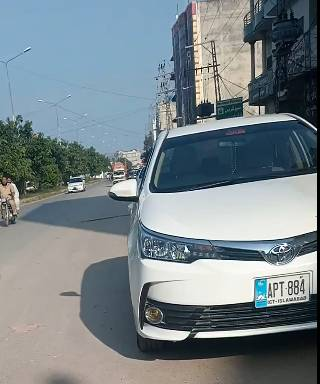number_plate: (250, 273, 314, 306)
